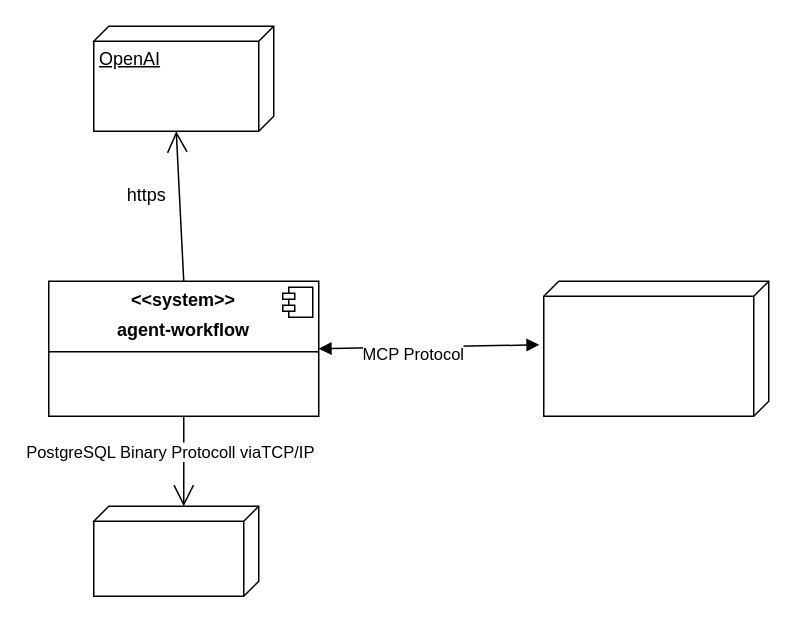
Some shapes in this 795 by 623 pixel diagram are drawn without their labels. The shapes that lost their labels are listed below. From the top down, each one's box as (x1, y1, x2, y2) in pixels, then its label:
(542, 280, 769, 416): MCP Fileserver
(92, 505, 259, 596): Postgres Docker Container
